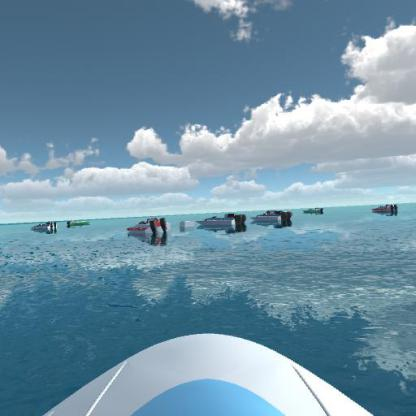usv0: (302, 202, 330, 218), (63, 215, 92, 230)
usv1: (194, 209, 251, 236), (249, 208, 293, 230), (28, 216, 60, 235)
usv3: (126, 214, 174, 242), (370, 200, 400, 217)
